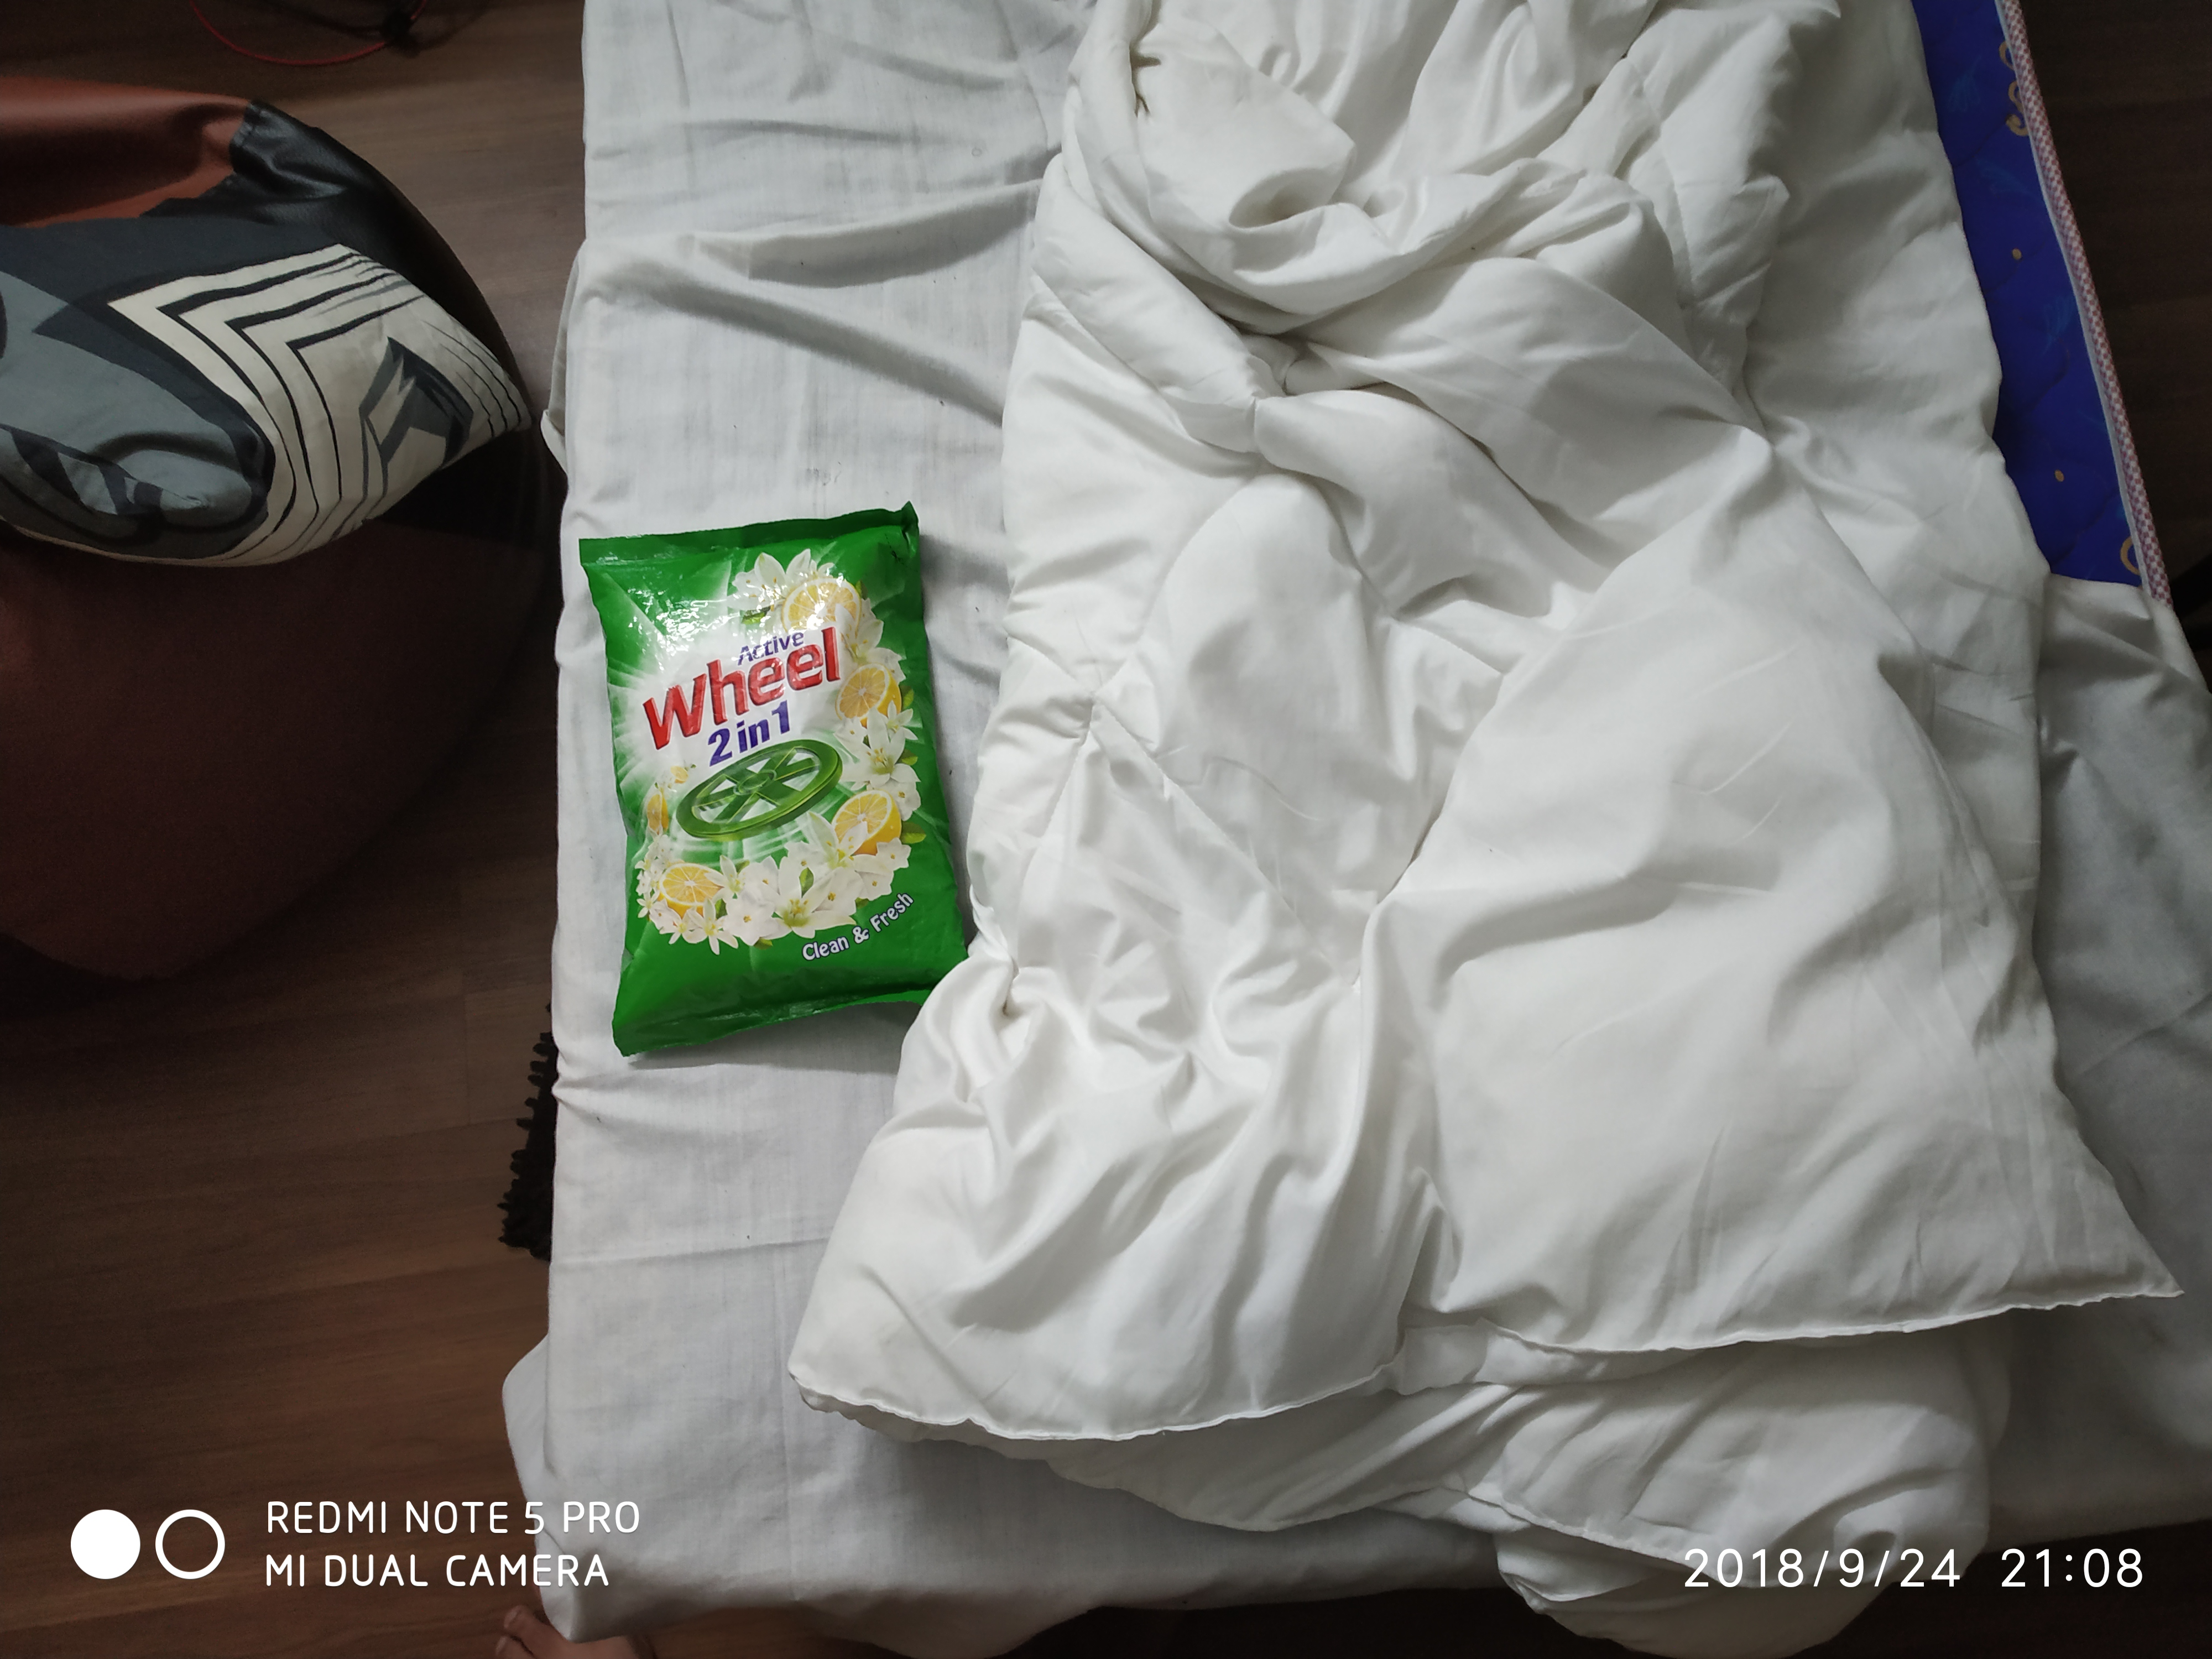detergent: (564, 505, 982, 1053)
